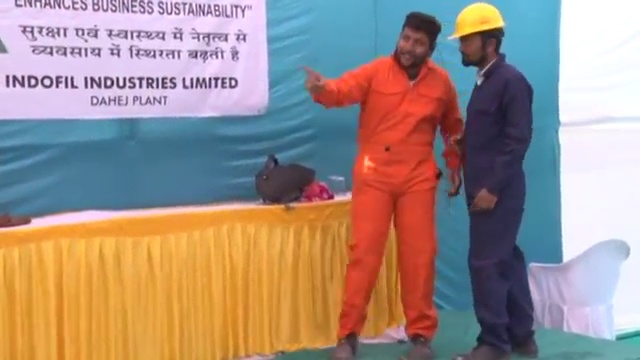helmet: (447, 1, 505, 41)
helmet_off: (395, 11, 440, 72)
helmet_on: (446, 1, 511, 69)
person: (303, 10, 462, 359), (453, 1, 541, 360)
